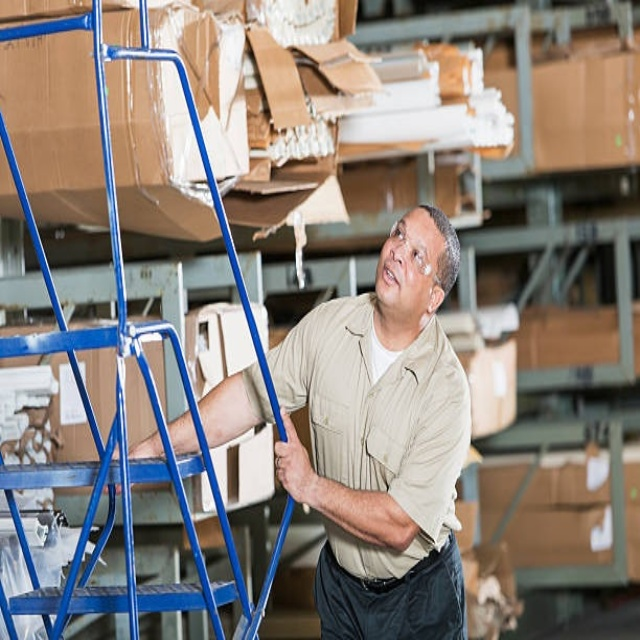Gafas: (391, 222, 442, 288)
Sin_guantes: (272, 403, 315, 502)
Sin_mascara: (379, 262, 405, 304)
